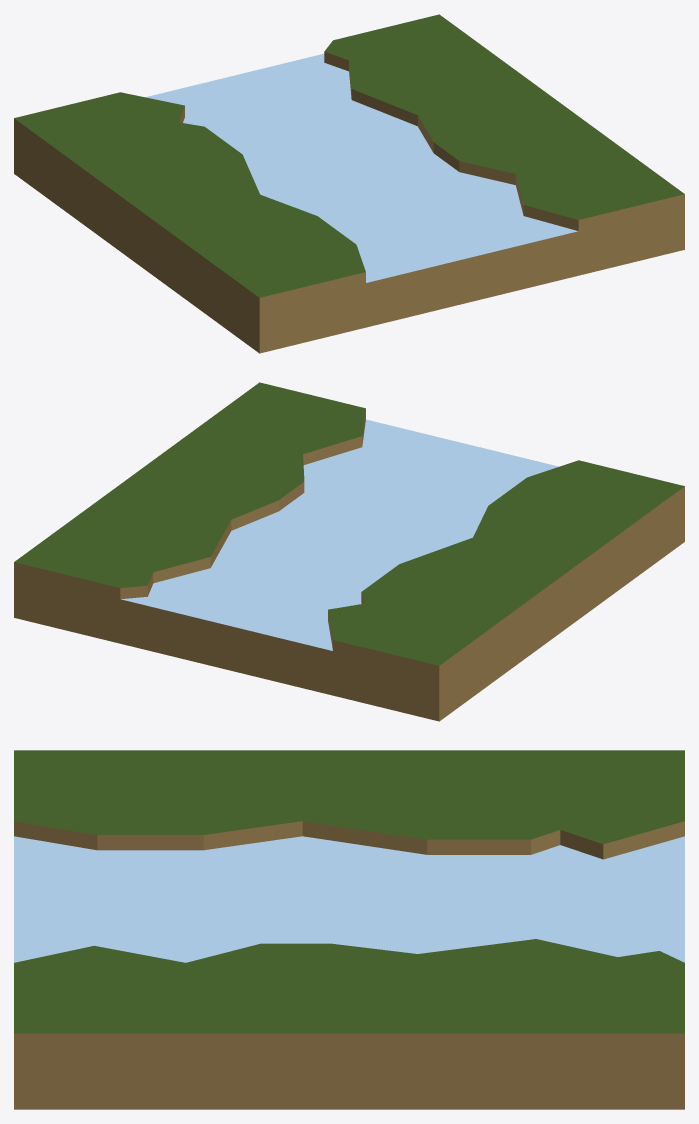
File: Terrain_Tile_Grass_Dirt_River_01.fbx
3 views of the same model, one above another, from view 1: azimuth 30°, elevation 25°; view 2: azimuth 150°, elevation 25°; view 3: azimuth 270°, elevation 25° (orthographic). The views are drawn at different scales.
Parts seen in each view (by area): view 1: Terrain_Tile_Grass_Dirt_River_01; view 2: Terrain_Tile_Grass_Dirt_River_01; view 3: Terrain_Tile_Grass_Dirt_River_01.
Boxes of the visible parts, bbox=[...] form: Terrain_Tile_Grass_Dirt_River_01: bbox=[14, 14, 684, 353]; Terrain_Tile_Grass_Dirt_River_01: bbox=[14, 382, 684, 721]; Terrain_Tile_Grass_Dirt_River_01: bbox=[14, 750, 684, 1109].
Size of the model in its own units: 126 by 15.75 by 126.
